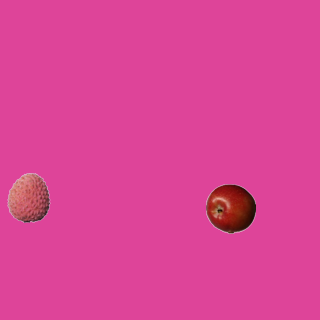Apple Braeburn: (205, 183, 255, 233)
Lychee: (3, 172, 53, 222)
